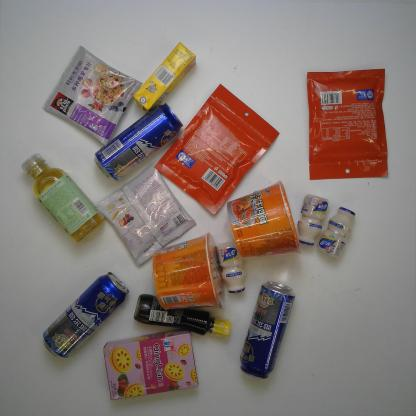Alcohol: (42, 270, 130, 360), (93, 102, 185, 182), (237, 280, 296, 380)
Dessert: (102, 327, 199, 401)
Dried Fruit: (154, 83, 281, 217), (305, 68, 390, 181)
Drink: (20, 152, 106, 243), (132, 41, 197, 113)
Instant Drink: (94, 162, 196, 268), (41, 44, 142, 147)
Instant Noodles: (150, 232, 226, 314), (225, 179, 301, 258)
Milk: (317, 206, 356, 260), (296, 192, 330, 246), (216, 240, 245, 296)
Seasoner: (134, 292, 232, 338)
